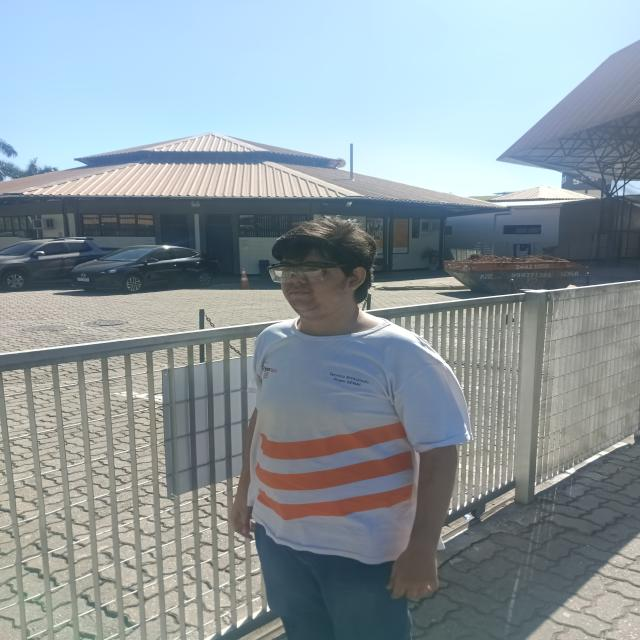oculos-epi: (266, 263, 353, 284)
